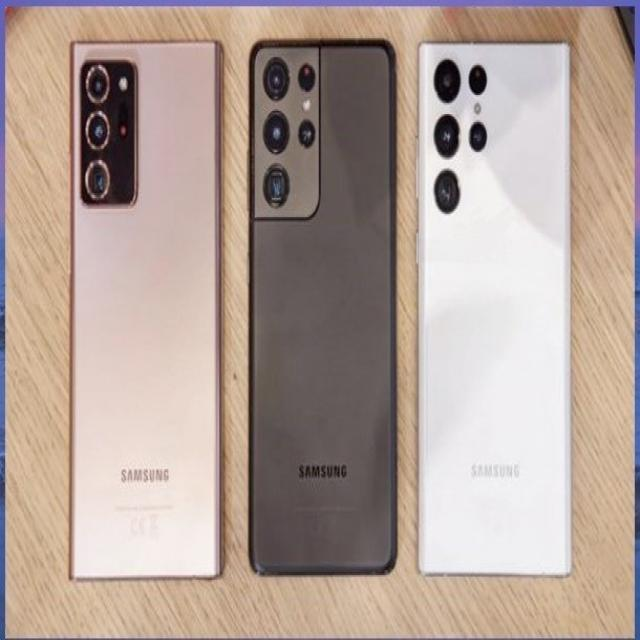phone: (66, 36, 226, 586), (418, 39, 573, 582), (247, 35, 399, 577)
